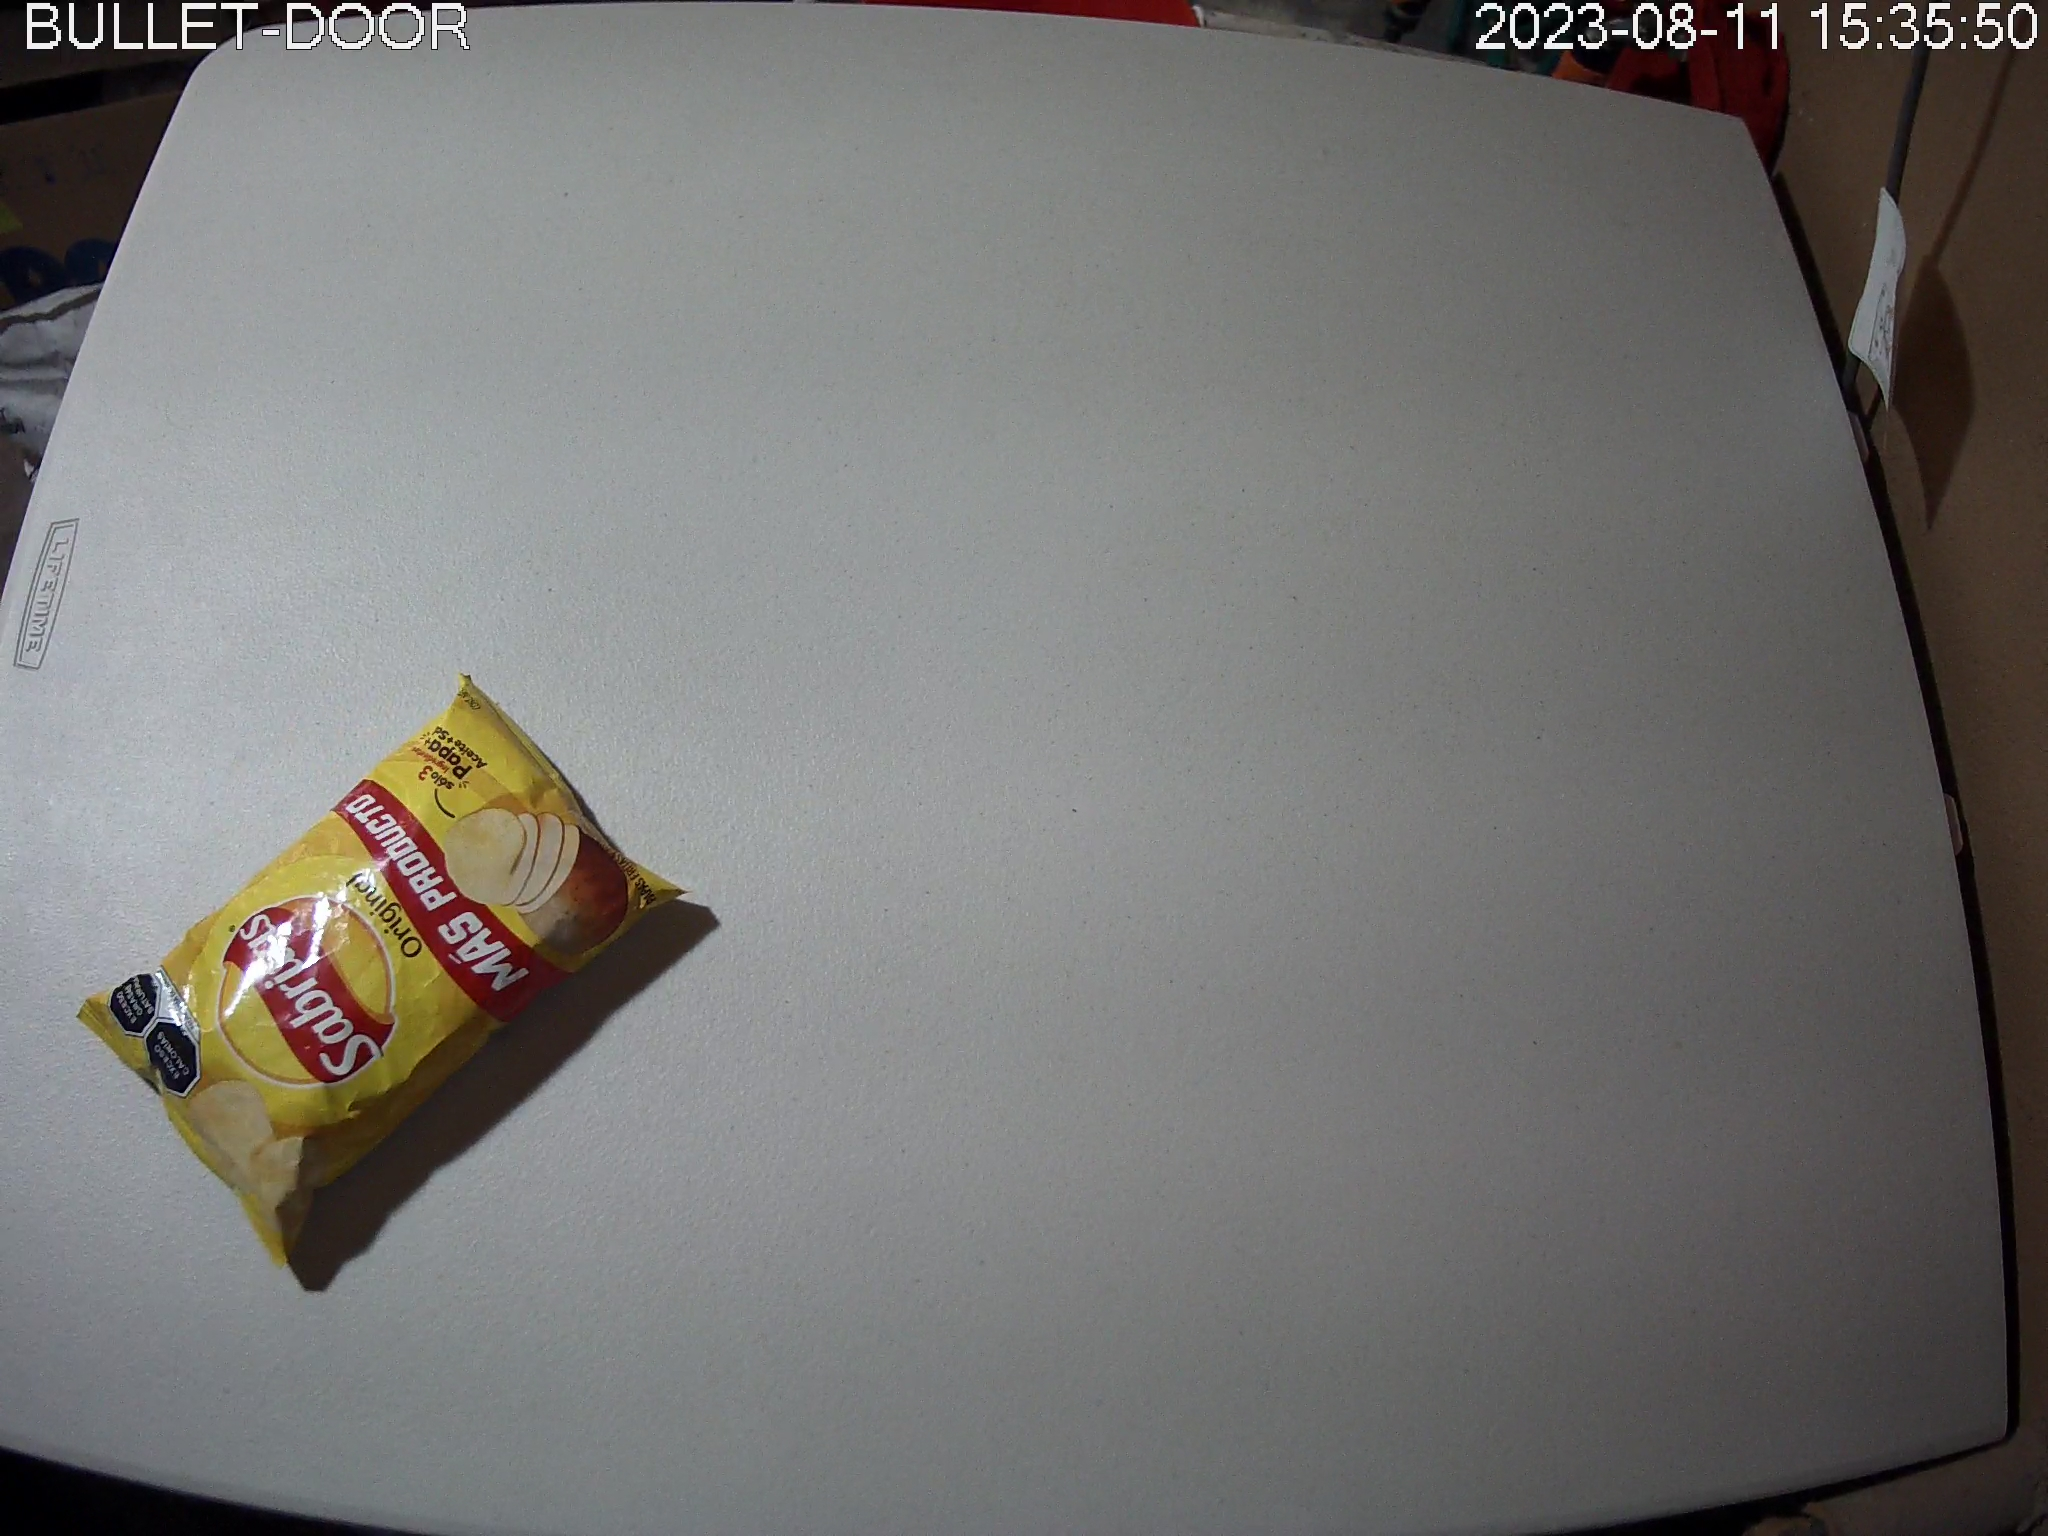Sabritas_45_F: (77, 671, 693, 1267)
